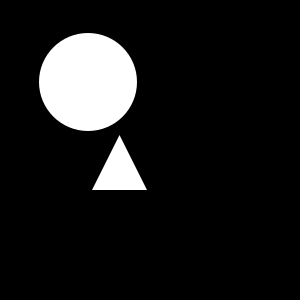rectangle: (39, 33, 137, 131)
triangle: (92, 135, 147, 190)
